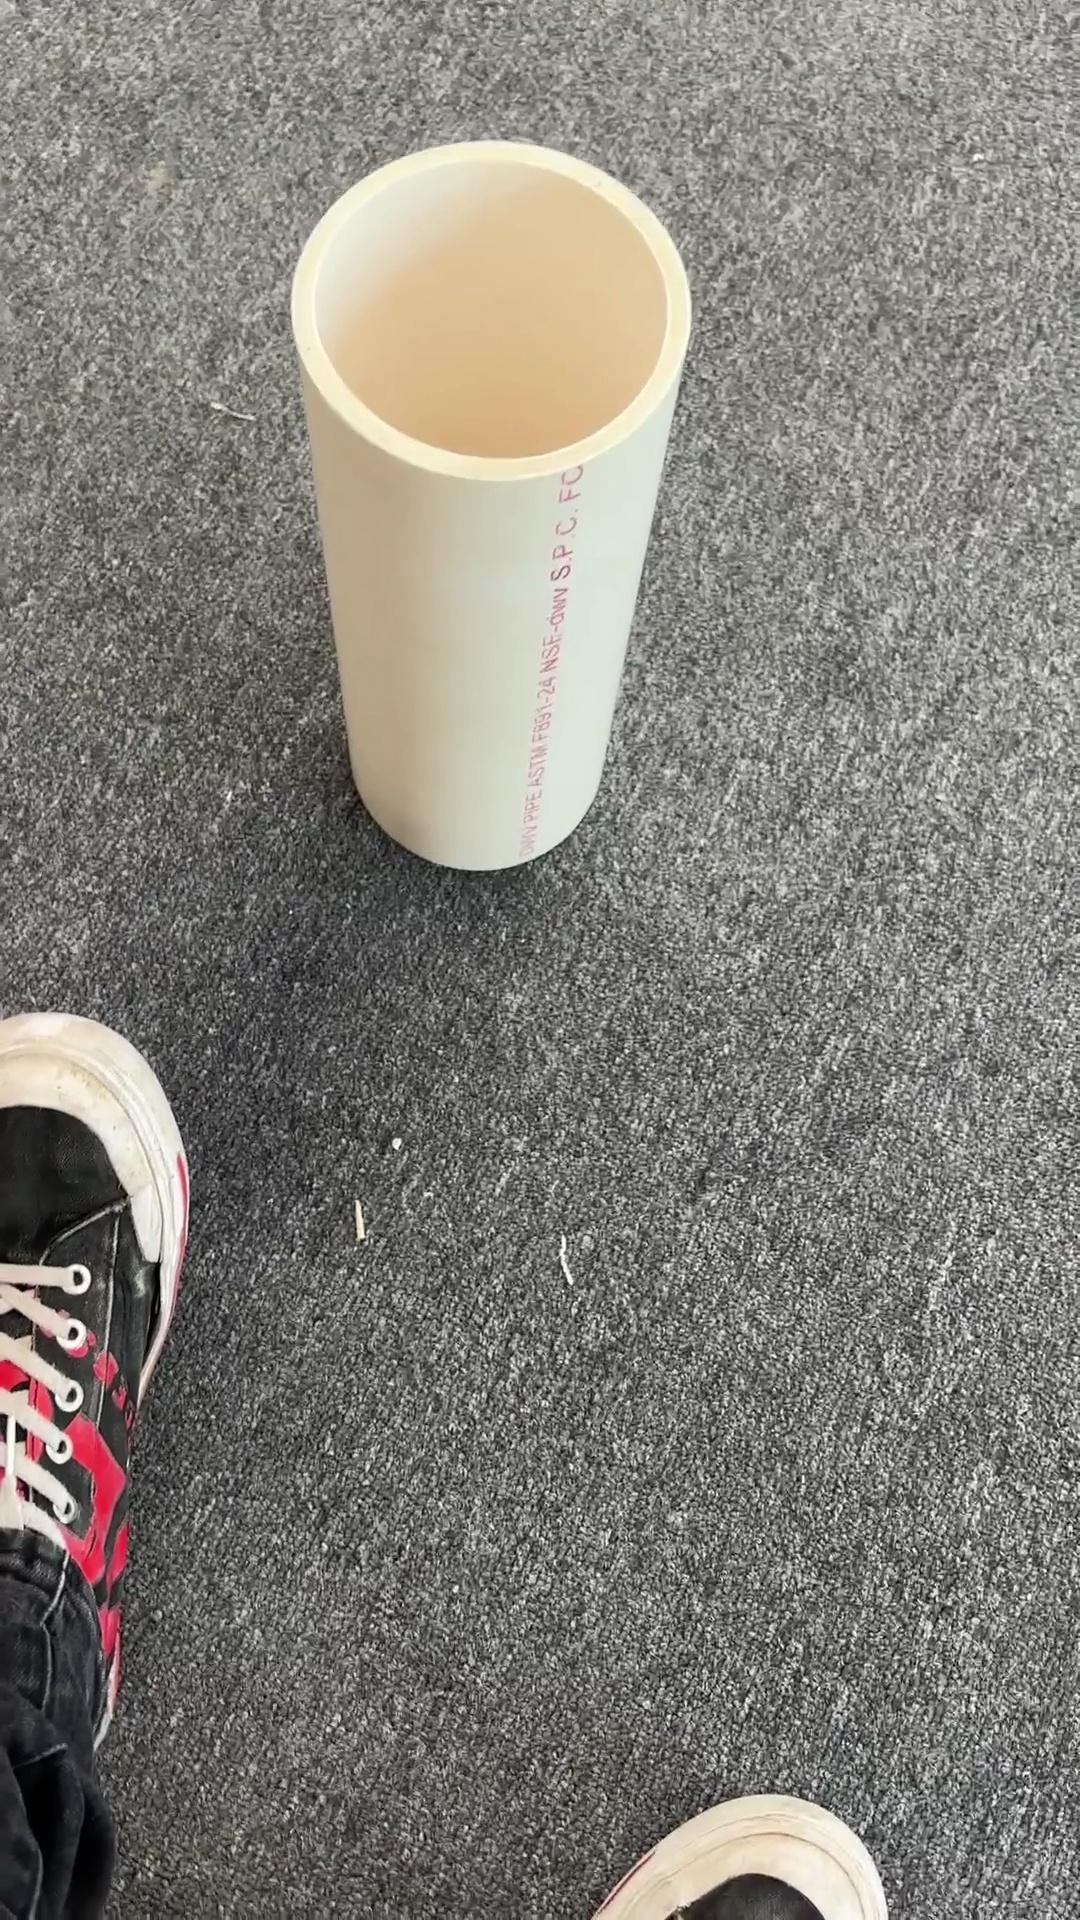CORAL: (287, 136, 694, 872)
